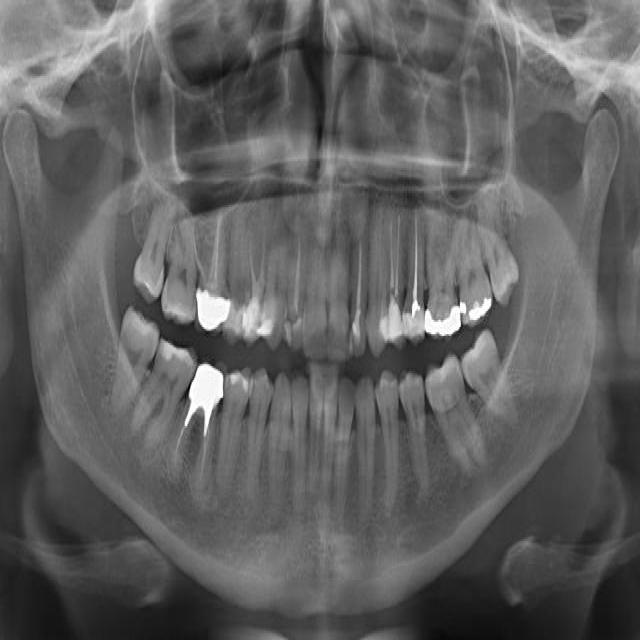dentin-curugu: (278, 307, 309, 358)
dolgu: (418, 303, 467, 352), (235, 295, 278, 346), (378, 285, 406, 345), (459, 283, 496, 323), (402, 295, 428, 348)
kanal-tedavisi: (193, 200, 227, 286), (178, 400, 212, 480), (406, 208, 427, 306), (384, 212, 405, 306), (244, 236, 273, 299), (287, 235, 306, 310), (352, 234, 367, 320)
kaplama: (192, 279, 232, 336), (190, 352, 223, 418)
